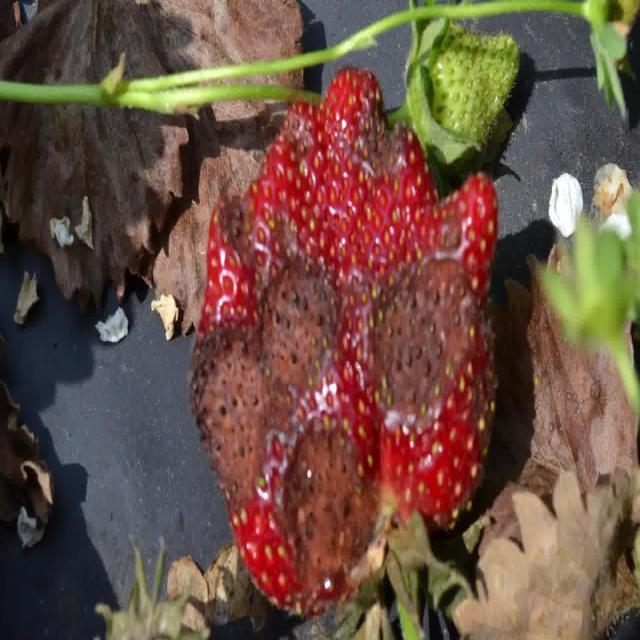Mancha negra Antracnosis: (193, 94, 508, 588)
